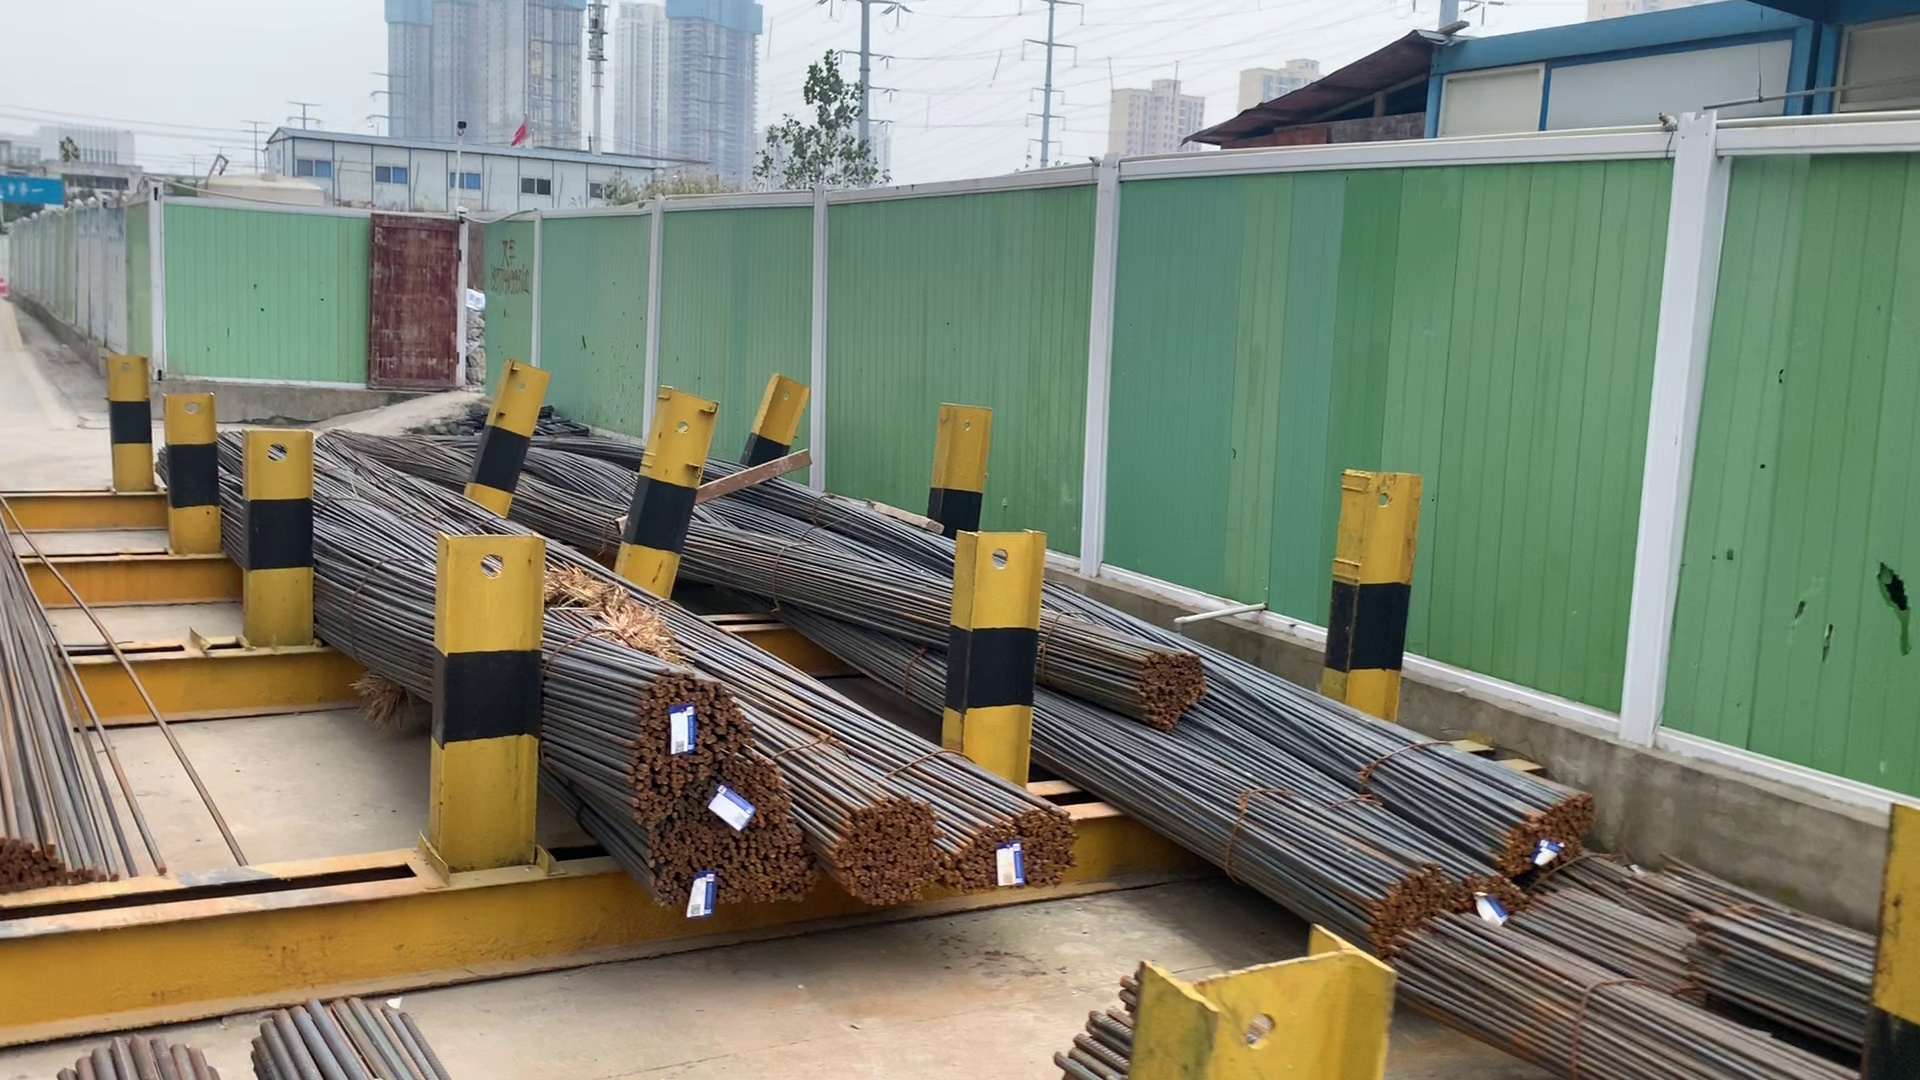rebar: (641, 795, 810, 906), (640, 679, 745, 802), (833, 796, 943, 911), (949, 808, 1073, 895), (1358, 865, 1461, 945), (1497, 789, 1596, 866), (1135, 647, 1203, 733)
